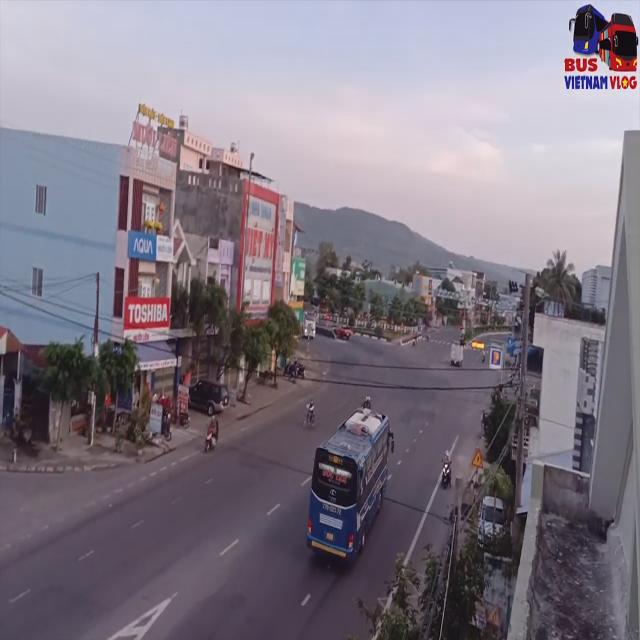bus: (302, 410, 395, 570)
motorbike: (440, 446, 454, 490), (204, 417, 218, 455), (304, 397, 318, 432)
